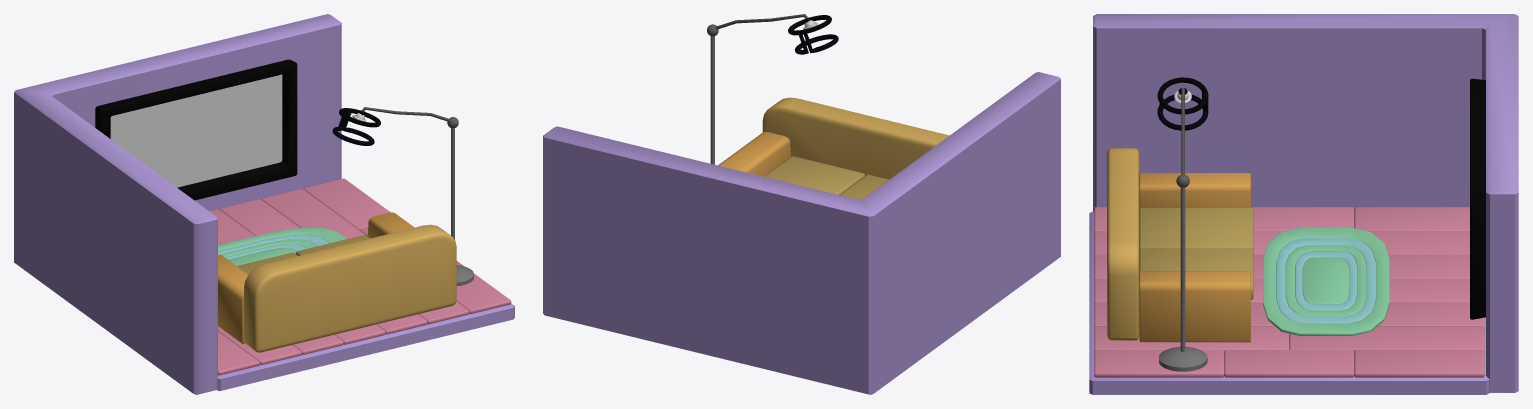
Rendered from isom.glb.
3 views of the same model, side by side, from view 1: azimuth 30°, elevation 25°; view 2: azimuth 150°, elevation 25°; view 3: azimuth 270°, elevation 25° (orthographic). The views are drawn at different scales.
Parts seen in each view (by area): view 1: isom; view 2: isom; view 3: isom.
Boxes of the visible parts, x1,y1,x2,y2 form: isom: (14, 14, 514, 394); isom: (543, 14, 1060, 394); isom: (1089, 14, 1518, 394).
Size of the model in its own units: 3.78 by 2.38 by 3.78.
